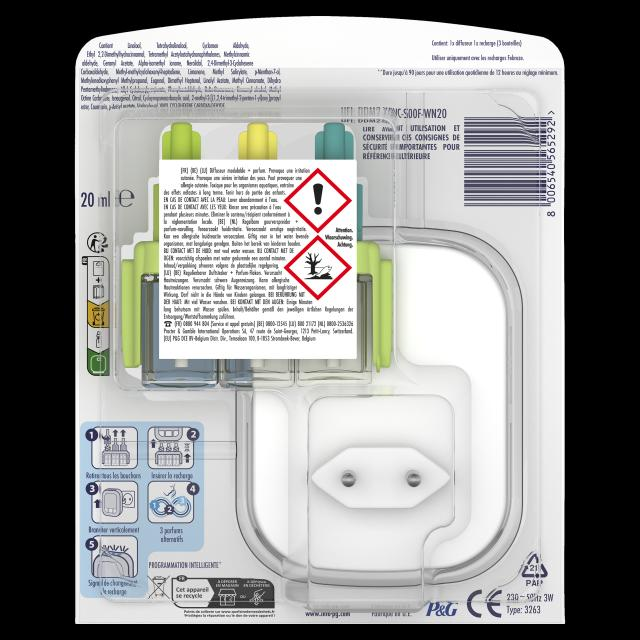GHS_Symbol_ENVIRONMENT: (284, 234, 352, 301)
GHS_Symbol_EXCLAMATION_MARK: (284, 166, 352, 234)
